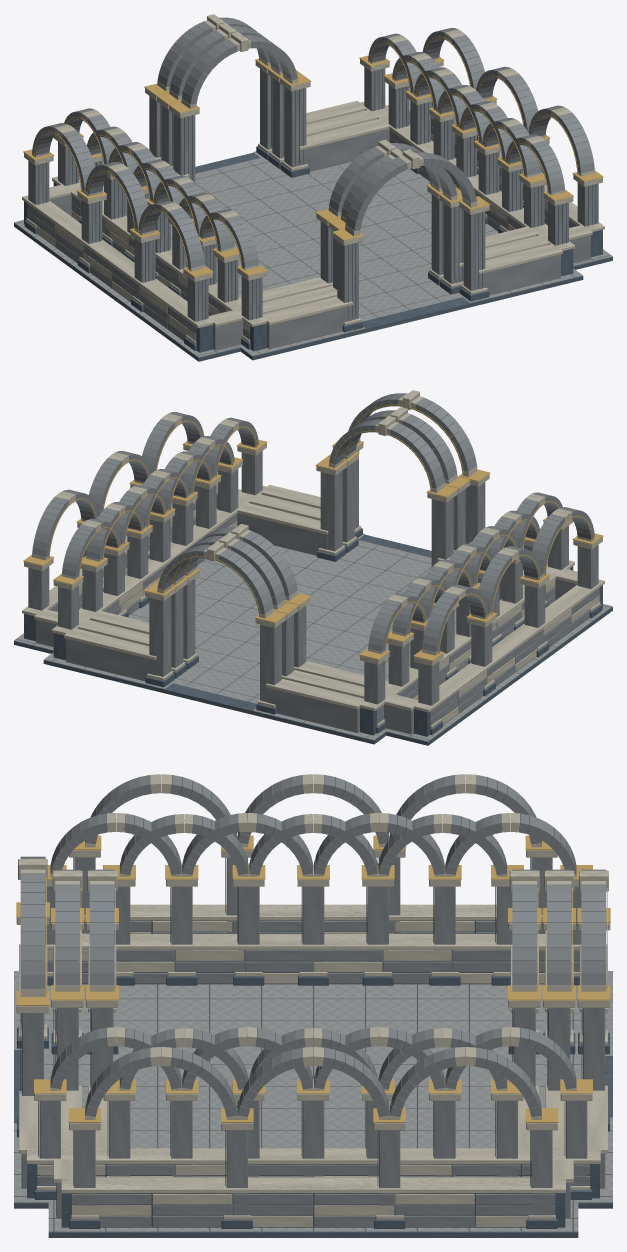
File: moon-courts-v01.glb
3 views of the same model, one above another, from view 1: azimuth 30°, elevation 25°; view 2: azimuth 150°, elevation 25°; view 3: azimuth 270°, elevation 25° (orthographic). The views are drawn at different scales.
Parts seen in each view (by area): view 1: ShadeCourt Courts stone, MirrorCourt Courts stone, PanelCourt Courts stone, MirrorFloor Courts floor, PanelFloor Courts floor, MirrorCourt Courts pale, ShadeCourt Courts pale, PanelCourt Courts pale, ShadeCourt Courts recess, MirrorCourt Courts recess, ShadeFloor Courts floor, ShadeFloor Courts recess (+5 smaller); view 2: ShadeCourt Courts stone, MirrorCourt Courts stone, PanelCourt Courts stone, MirrorFloor Courts floor, MirrorCourt Courts pale, ShadeCourt Courts pale, PanelCourt Courts pale, ShadeFloor Courts floor, PanelFloor Courts floor, ShadeFloor Courts recess, ShadeCourt Courts brass, MirrorCourt Courts brass (+5 smaller); view 3: MirrorCourt Courts stone, ShadeCourt Courts stone, PanelCourt Courts stone, PanelFloor Courts floor, ShadeFloor Courts floor, MirrorCourt Courts pale, PanelCourt Courts pale, ShadeCourt Courts pale, MirrorCourt Courts recess, MirrorFloor Courts floor, ShadeCourt Courts recess, ShadeCourt Courts brass (+5 smaller).
Part boxes in pixels (x1,y1,x2,y2): ShadeCourt Courts stone: [57, 17, 568, 348]; MirrorCourt Courts stone: [27, 26, 598, 350]; PanelCourt Courts stone: [81, 35, 544, 315]; MirrorFloor Courts floor: [14, 160, 612, 357]; PanelFloor Courts floor: [216, 163, 498, 298]; MirrorCourt Courts pale: [22, 23, 604, 344]; ShadeCourt Courts pale: [52, 14, 574, 342]; PanelCourt Courts pale: [76, 32, 547, 314]; ShadeCourt Courts recess: [53, 69, 573, 351]; MirrorCourt Courts recess: [24, 86, 602, 352]; ShadeFloor Courts floor: [171, 151, 582, 355]; ShadeFloor Courts recess: [195, 152, 583, 360]; ShadeCourt Courts stone: [58, 393, 568, 732]; MirrorCourt Courts stone: [28, 410, 599, 734]; PanelCourt Courts stone: [82, 419, 545, 698]; MirrorFloor Courts floor: [14, 545, 612, 741]; MirrorCourt Courts pale: [22, 407, 604, 728]; ShadeCourt Courts pale: [52, 390, 574, 726]; PanelCourt Courts pale: [80, 416, 550, 699]; ShadeFloor Courts floor: [44, 533, 431, 739]; PanelFloor Courts floor: [133, 546, 456, 632]; ShadeFloor Courts recess: [43, 534, 431, 744]; ShadeCourt Courts brass: [53, 404, 569, 659]; MirrorCourt Courts brass: [23, 420, 603, 661]; MirrorCourt Courts stone: [55, 775, 571, 1226]; ShadeCourt Courts stone: [20, 813, 606, 1188]; PanelCourt Courts stone: [89, 814, 537, 1177]; PanelFloor Courts floor: [83, 984, 543, 1148]; ShadeFloor Courts floor: [14, 971, 612, 1202]; MirrorCourt Courts pale: [51, 774, 575, 1226]; PanelCourt Courts pale: [86, 814, 540, 1177]; ShadeCourt Courts pale: [16, 813, 610, 1190]; MirrorCourt Courts recess: [51, 857, 575, 1228]; MirrorFloor Courts floor: [48, 984, 578, 1231]; ShadeCourt Courts recess: [17, 886, 609, 1199]; ShadeCourt Courts brass: [16, 819, 610, 1093].
Size of the model in its own units: 19.8 by 7.38 by 17.3.
Materials: 5 (4 with a texture image).
